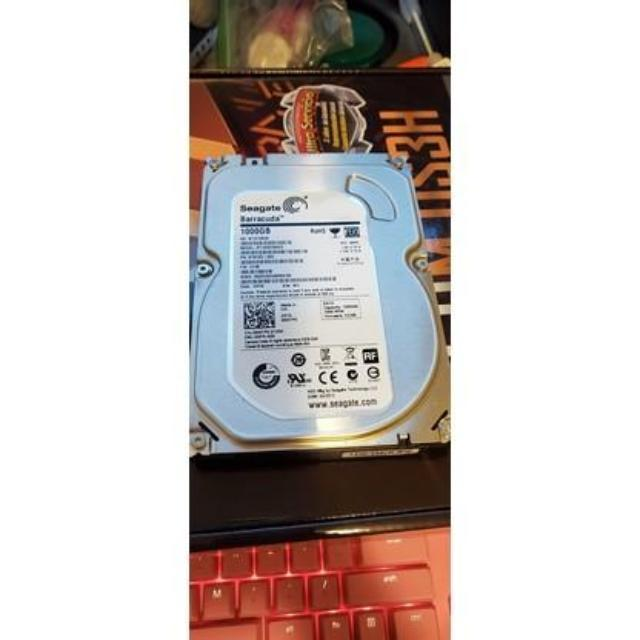DISK: (190, 156, 445, 450)
